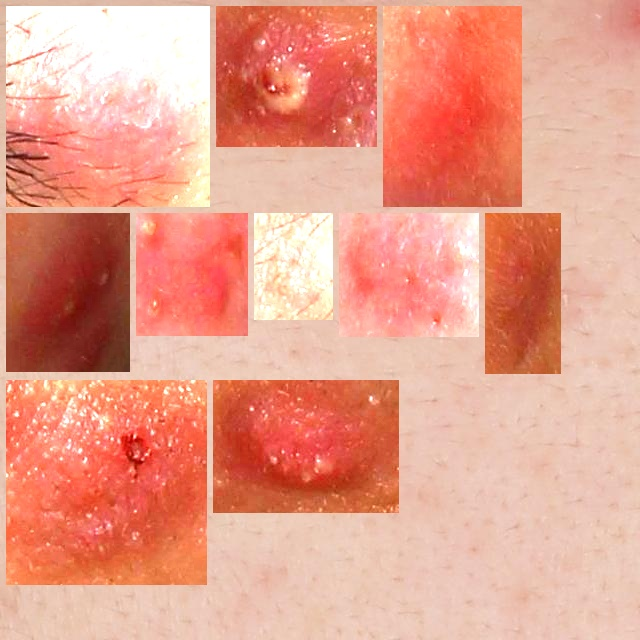nodule: (14, 388, 199, 577), (14, 14, 202, 199), (391, 14, 514, 199), (221, 388, 391, 505), (224, 14, 369, 139), (14, 221, 122, 364), (347, 221, 471, 329), (144, 221, 240, 328), (493, 221, 553, 366), (262, 221, 325, 312)
